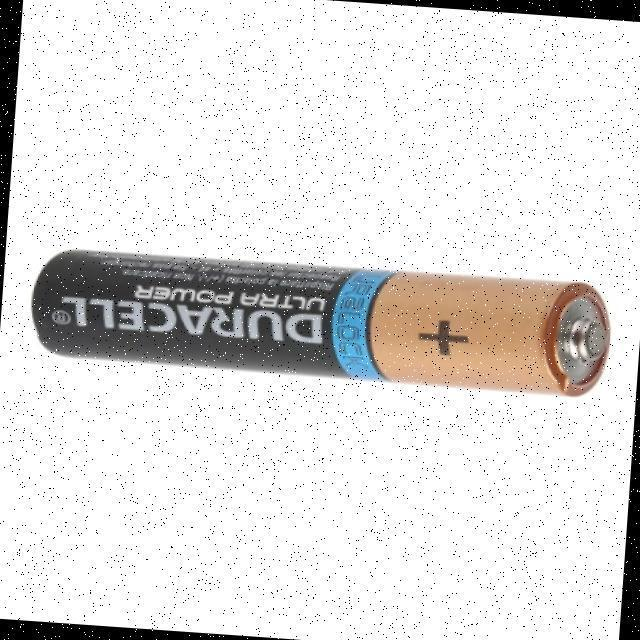AAA: (31, 247, 610, 396)
